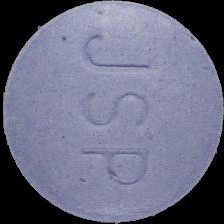0527-1350: (0, 0, 224, 224)
